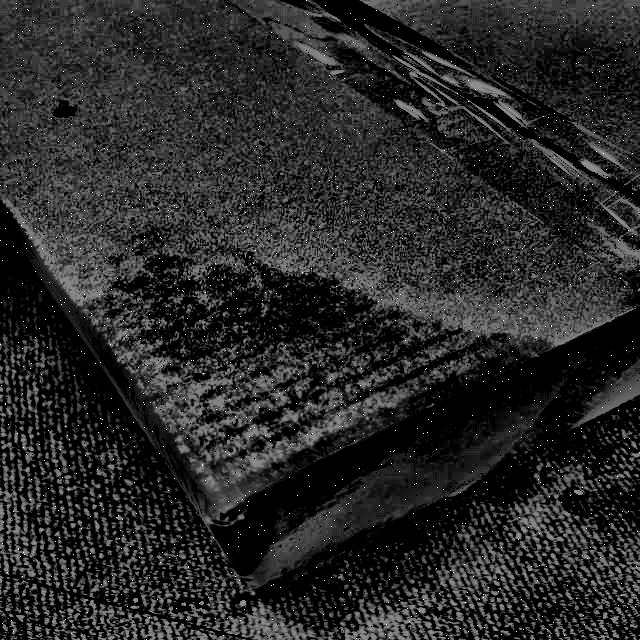box: (1, 0, 640, 605)
wet: (47, 235, 519, 578)
